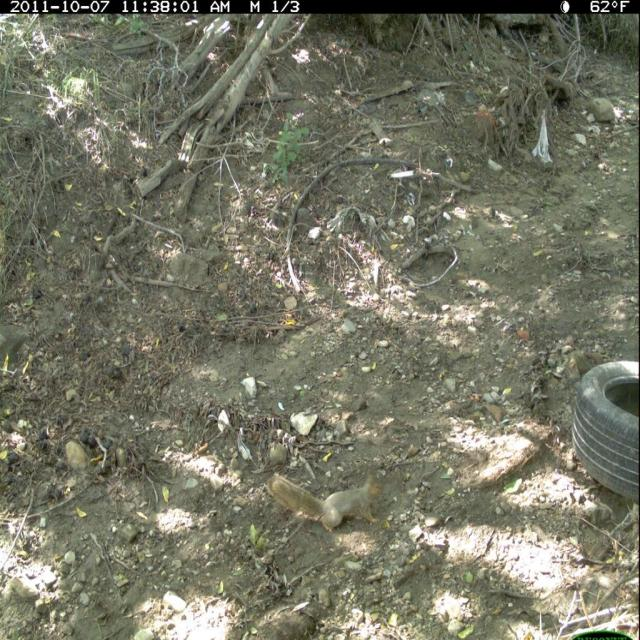squirrel: (268, 468, 387, 535)
